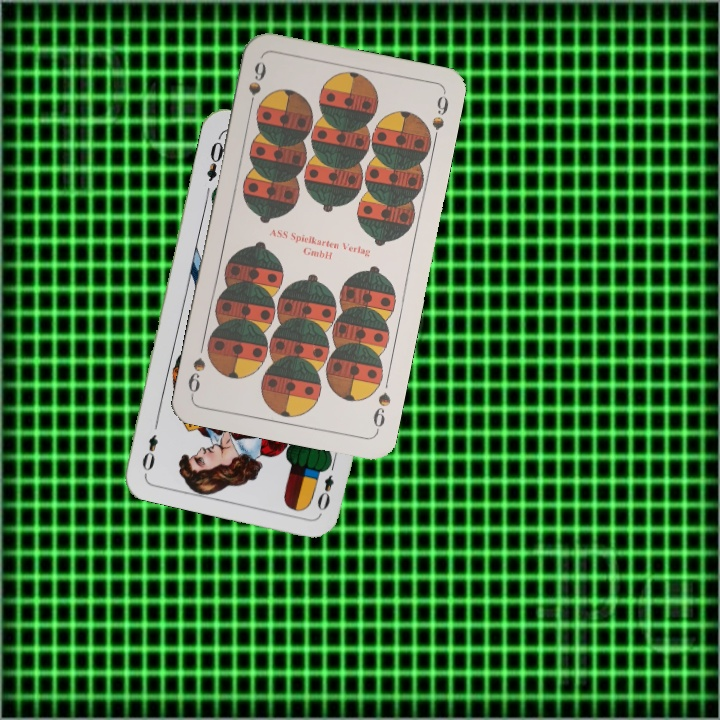EO: (313, 456, 338, 514), (202, 132, 226, 184)
S9: (244, 58, 269, 114), (369, 388, 393, 435)
